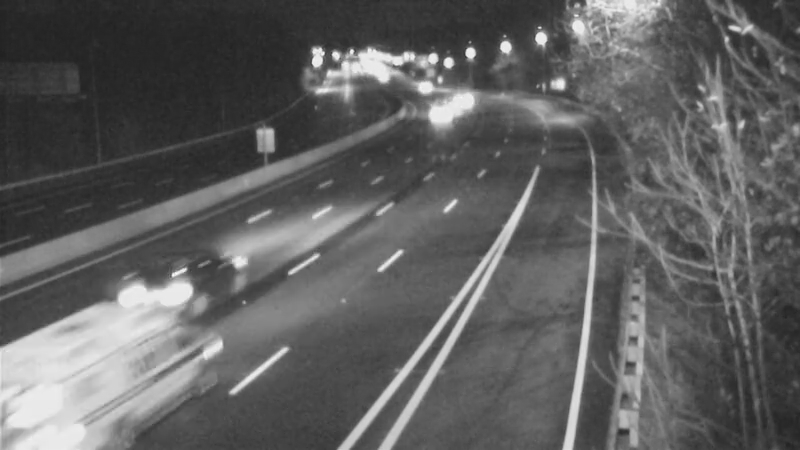vehicle: (44, 340, 154, 450), (122, 245, 202, 325), (398, 62, 448, 112), (437, 72, 487, 122), (413, 89, 463, 139)
